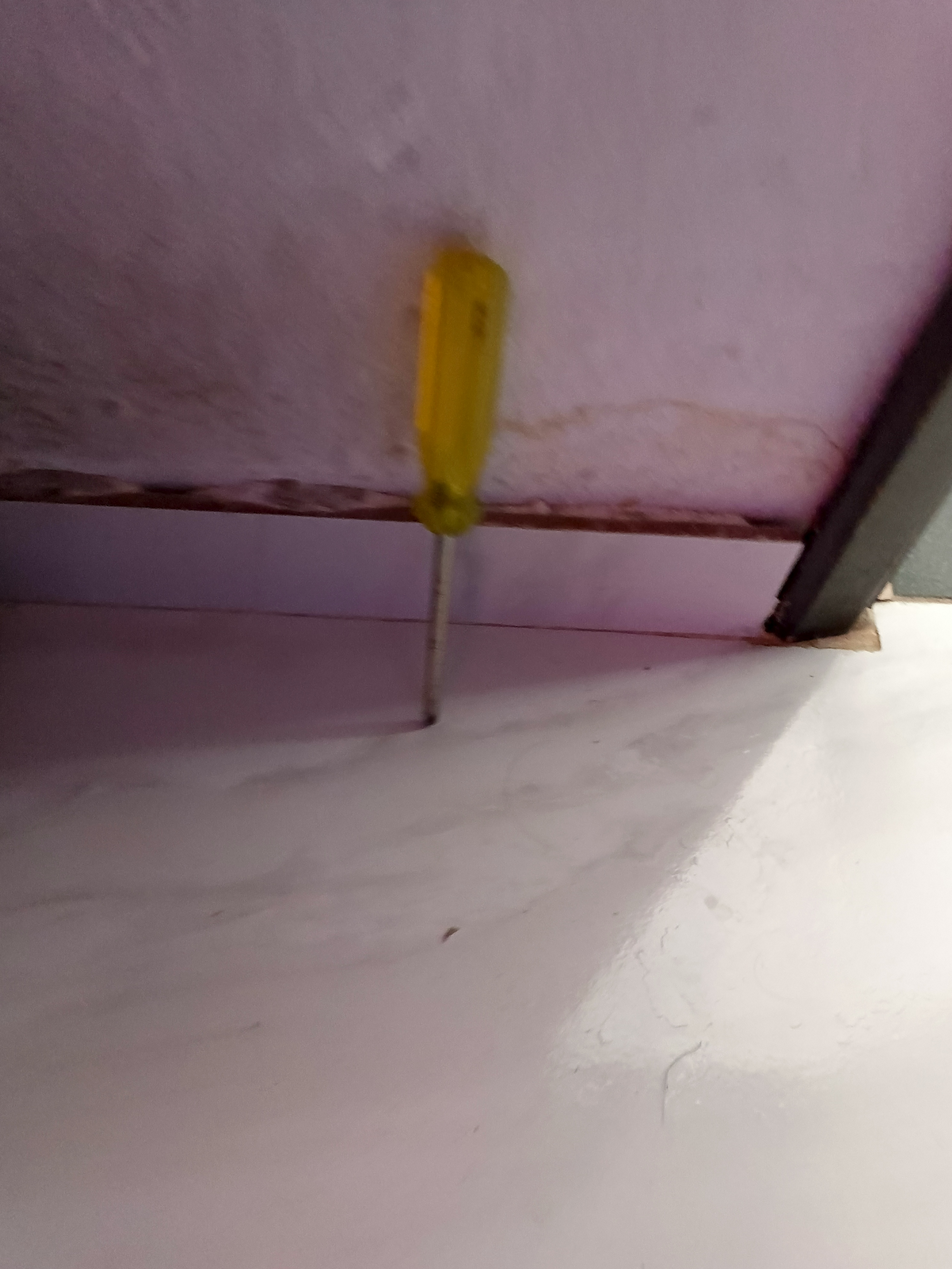Destornillador: (412, 246, 508, 726)
